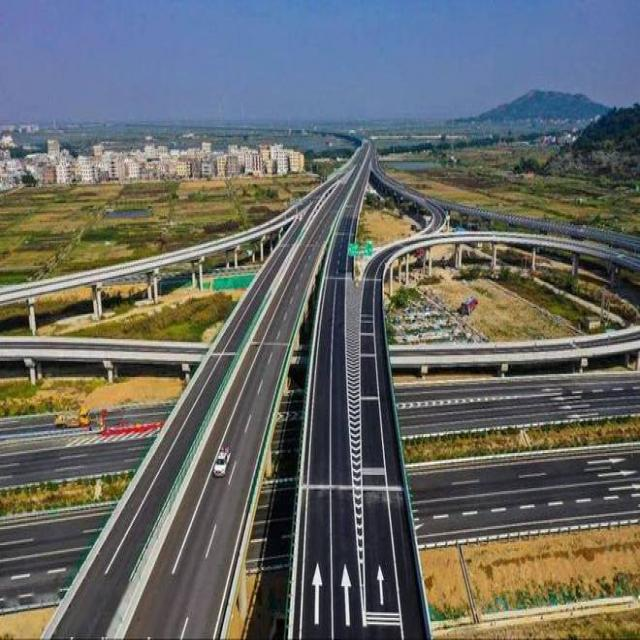point: (338, 128, 387, 192)
